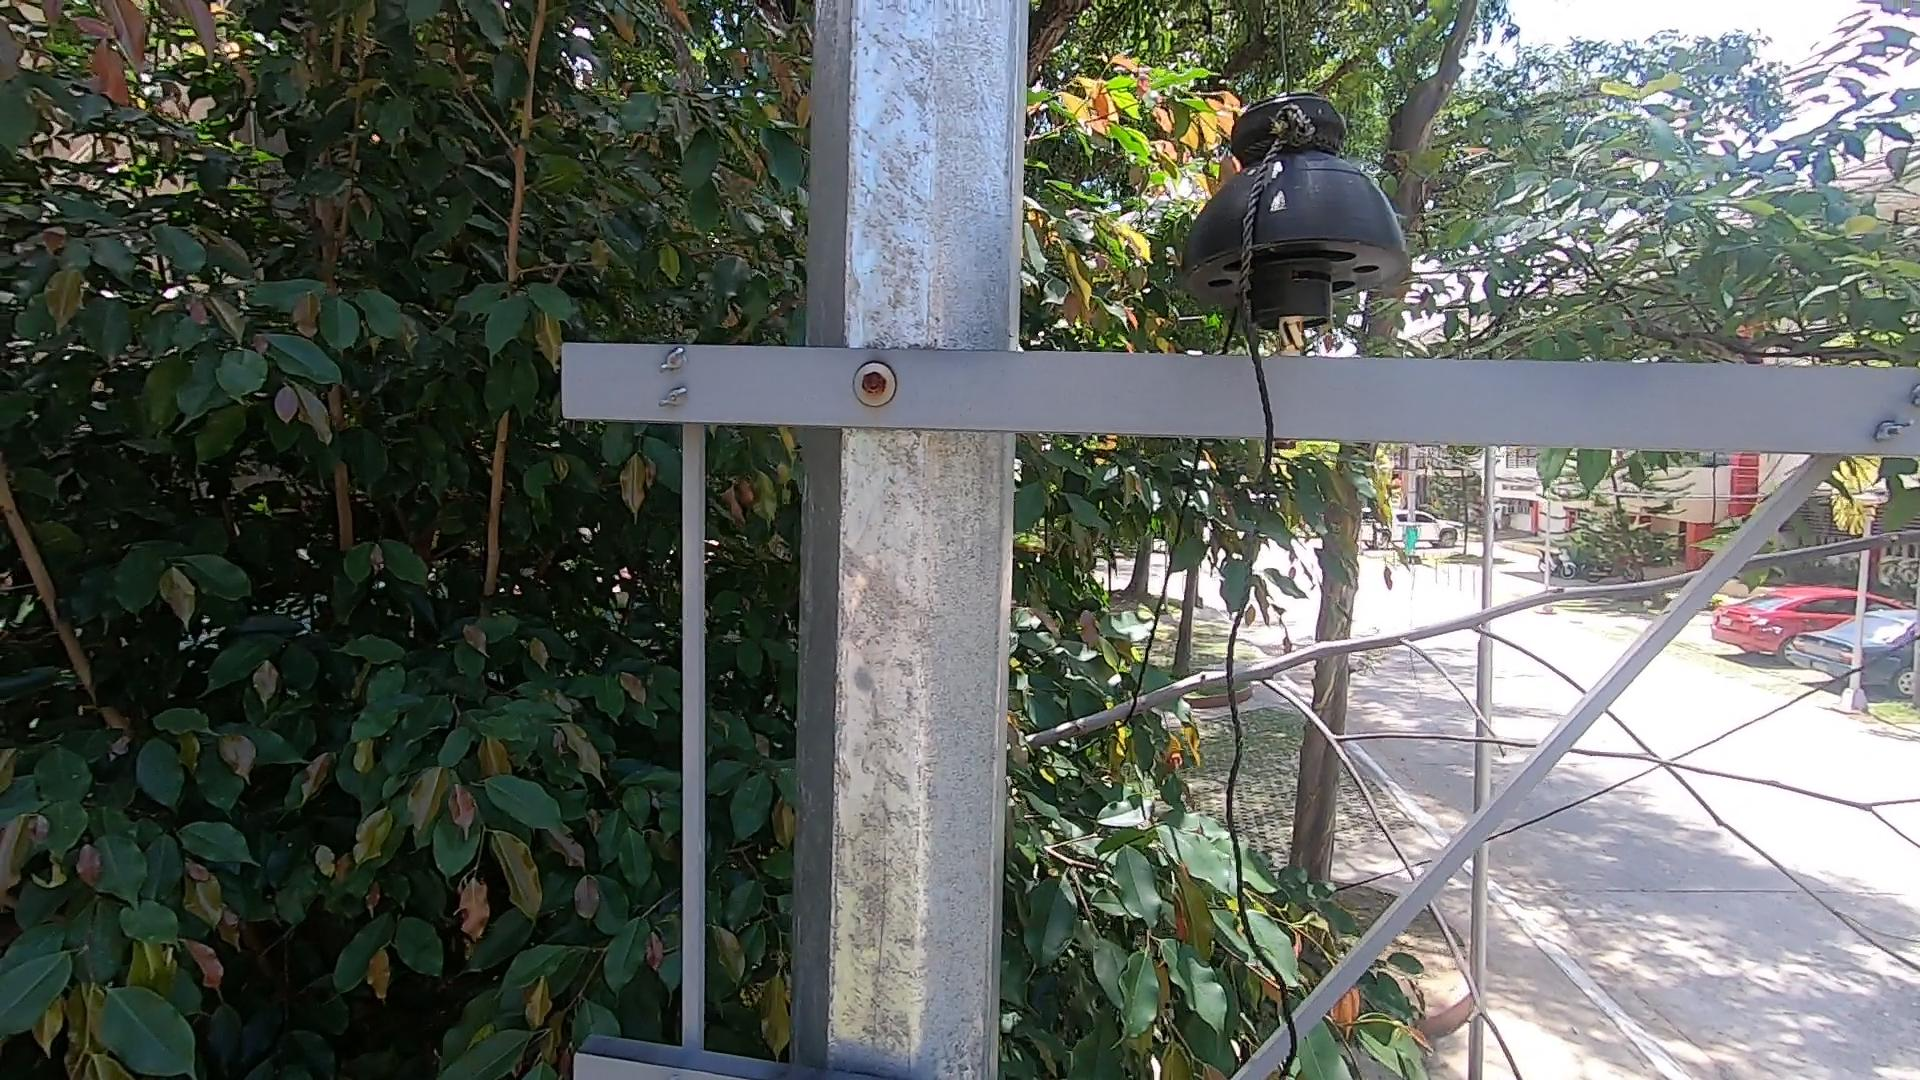tree branch: (1025, 520, 1920, 1073)
